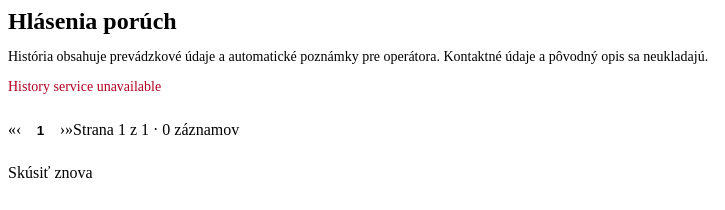
it: AdminFaultReportsPage › shows a bounded API error and retries without reloading the whole page
Expected: the message reads "History service unavailable", [8,79,161,94]
Click the button "Skúsiť znova".
click(50, 173)  # box [8,151,93,194]
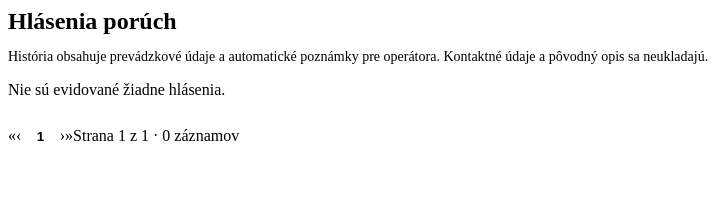
Expected: the text "Nie sú evidované žiadne hlásenia." is shown, [8,81,225,98]
